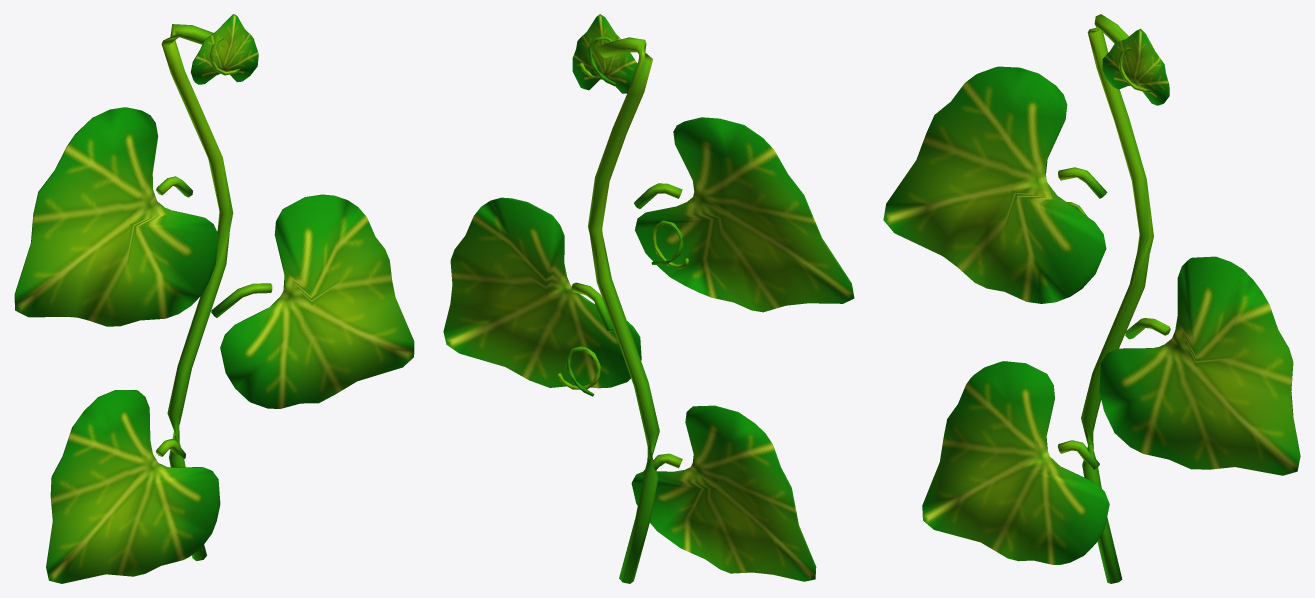
Rendered from NP_Cucumber_Young_LOD1.fbx.
The picture shows the model from 3 angles, left to right: view 1: azimuth 30°, elevation 25°; view 2: azimuth 150°, elevation 25°; view 3: azimuth 330°, elevation 25°; orthographic projection. The views are drawn at different scales.
Visible parts, largest first — view 1: NP_Cucumber_Young; view 2: NP_Cucumber_Young; view 3: NP_Cucumber_Young.
Boxes of the visible parts, x1=… form: NP_Cucumber_Young: x1=14, y1=14, x2=414, y2=583; NP_Cucumber_Young: x1=443, y1=14, x2=854, y2=583; NP_Cucumber_Young: x1=883, y1=14, x2=1300, y2=583.
Size of the model in its own units: 55.83 by 72.26 by 8.84.
